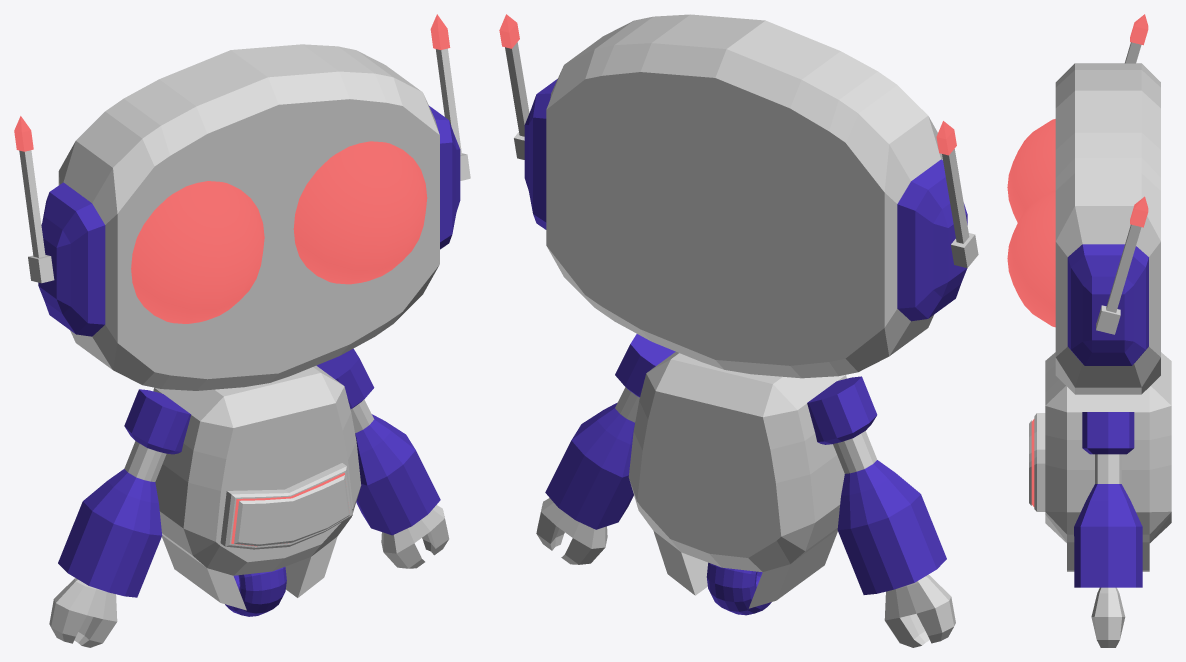
File: robot.glb
The picture shows the model from 3 angles, left to right: view 1: azimuth 30°, elevation 25°; view 2: azimuth 150°, elevation 25°; view 3: azimuth 270°, elevation 25°; orthographic projection. The views are drawn at different scales.
Parts seen in each view (by area): view 1: Cube.002, Cube, Sphere, Cube.001, Torus; view 2: Cube.002, Cube, Cube.001, Torus; view 3: Cube.002, Cube, Cube.001, Sphere.
Boxes of the visible parts, x1=… form: Cube.002: x1=14, y1=14, x2=470, y2=390; Cube: x1=153, y1=365, x2=361, y2=610; Sphere: x1=131, y1=141, x2=427, y2=323; Cube.001: x1=49, y1=348, x2=449, y2=647; Torus: x1=225, y1=567, x2=286, y2=616; Cube.002: x1=499, y1=14, x2=978, y2=378; Cube: x1=628, y1=352, x2=846, y2=608; Cube.001: x1=536, y1=334, x2=955, y2=647; Torus: x1=706, y1=562, x2=771, y2=615; Cube.002: x1=1055, y1=14, x2=1160, y2=394; Cube: x1=1029, y1=352, x2=1171, y2=571; Cube.001: x1=1074, y1=412, x2=1142, y2=647; Sphere: x1=1007, y1=119, x2=1055, y2=327.
Bounding box in the file's own units: 2.11 × 2.58 × 0.7792.
